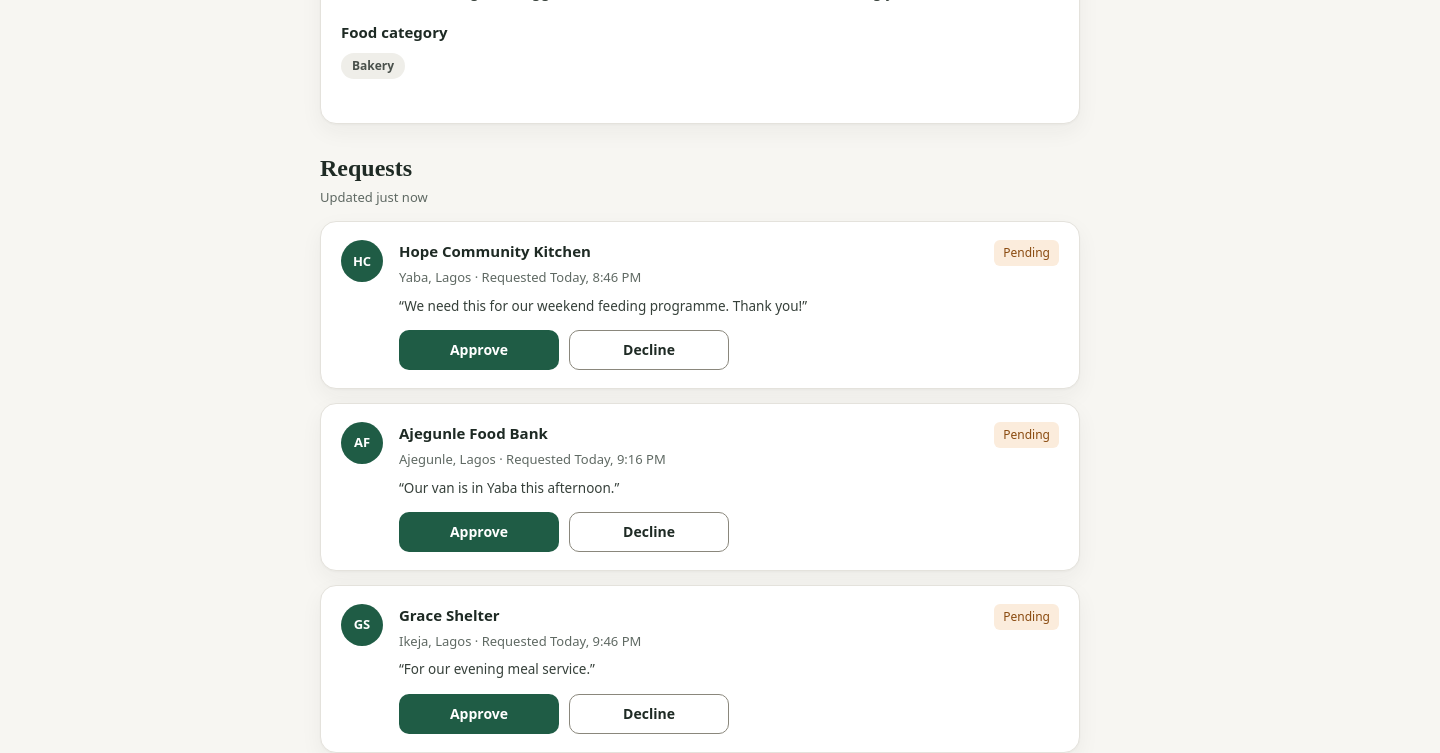
Test case: Listing details (donor): declining › asks first, then declines that one request only: "Request declined"
The width and height of the screenshot is (1440, 753).
(page scrolled)
Expected: the heading "Hope Community Kitchen" is shown, [399,240,591,263]
Click the button "Decline" below "Our van is in Yaba this afternoon.".
click(649, 532)  # box [569,512,729,552]
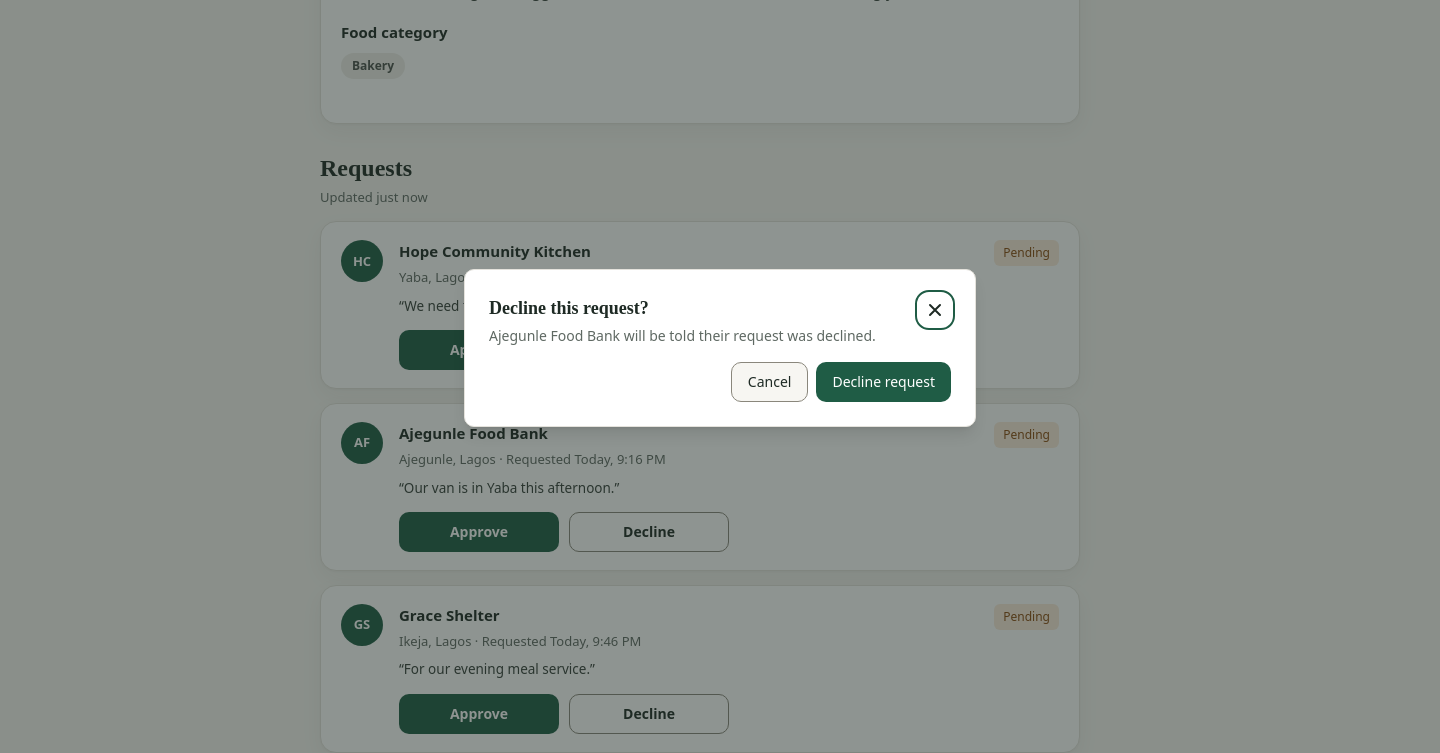
Click the button "Decline request".
click(884, 382)  # box [816,362,951,402]
(page scrolled)
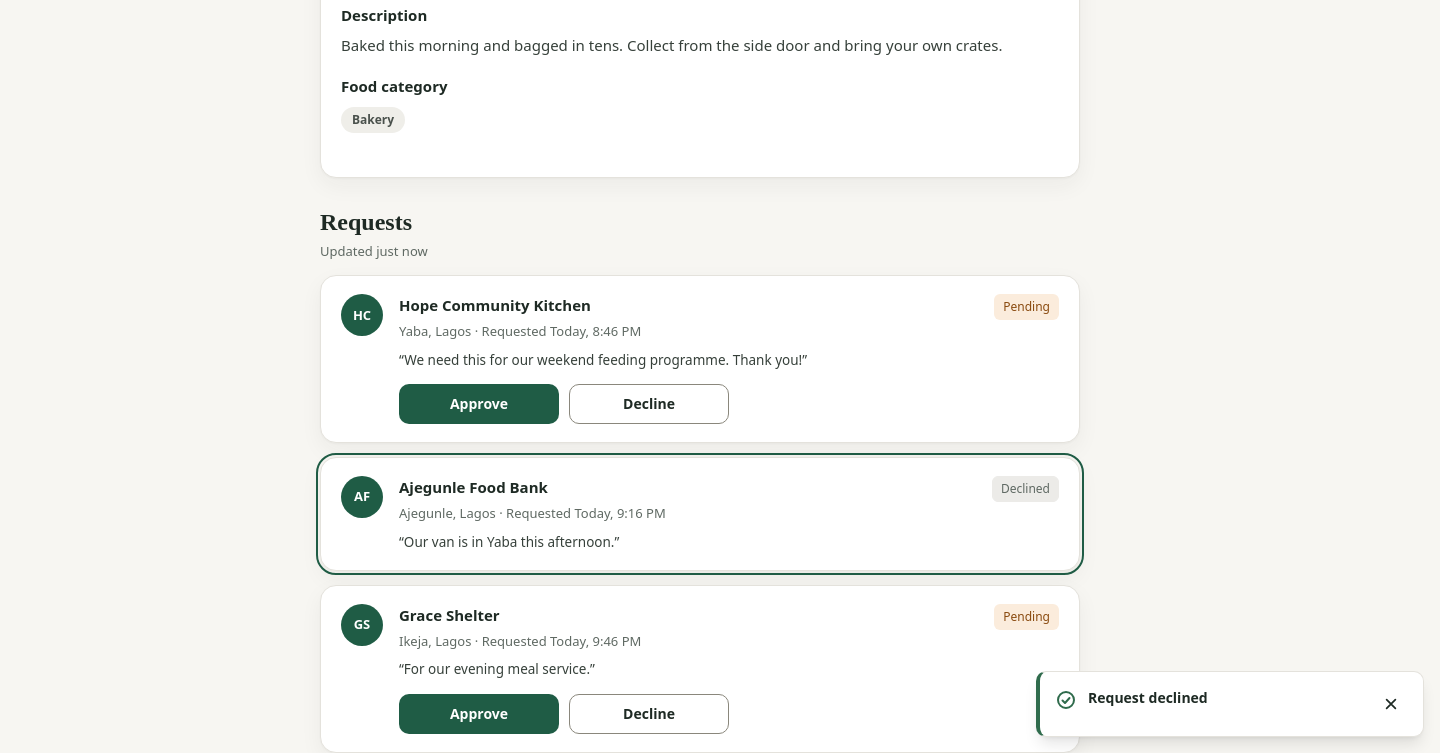
Expected: the text "Pending" in the row of "Hope Community Kitchen" is shown, [1003,298,1050,315]
Result: the text "Request declined" is shown at [1087,687,1208,707]
Result: the text "Declined" is shown at [1001,479,1050,499]
